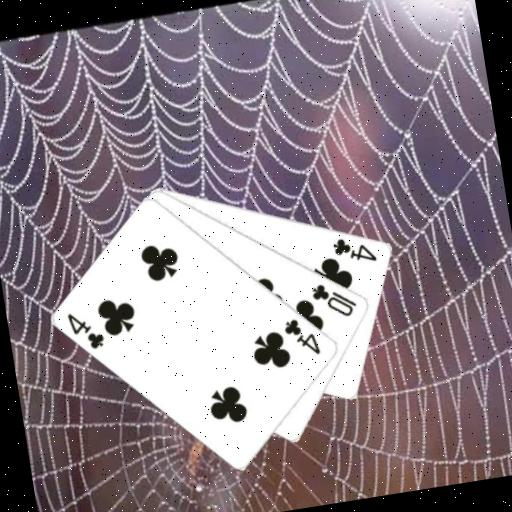10C: (307, 275, 360, 324)
4C: (63, 305, 108, 354), (279, 312, 323, 361), (329, 229, 379, 268)
